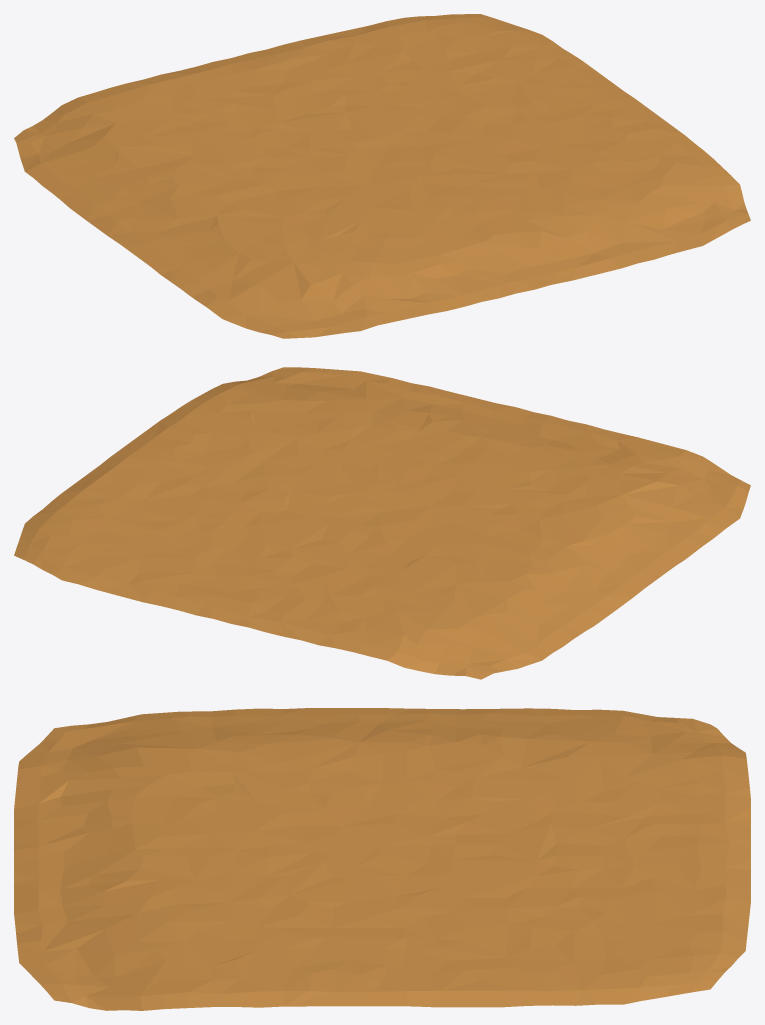
The model's file is sand.fbx.
3 renders of one model, top to bottom at view 1: azimuth 30°, elevation 25°; view 2: azimuth 150°, elevation 25°; view 3: azimuth 270°, elevation 25°, orthographic. The views are drawn at different scales.
Parts seen in each view (by area): view 1: sand; view 2: sand; view 3: sand.
Boxes of the visible parts, <box> form: sand: <box>14,14,750,338</box>; sand: <box>14,367,750,679</box>; sand: <box>14,708,750,1010</box>.
Size of the model in its own units: 15476 by 577 by 15476.
